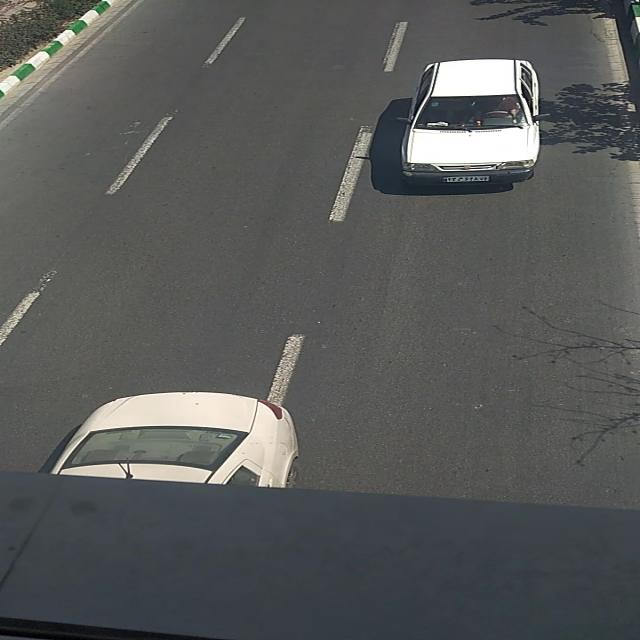car: (44, 392, 314, 488), (398, 58, 552, 185)
